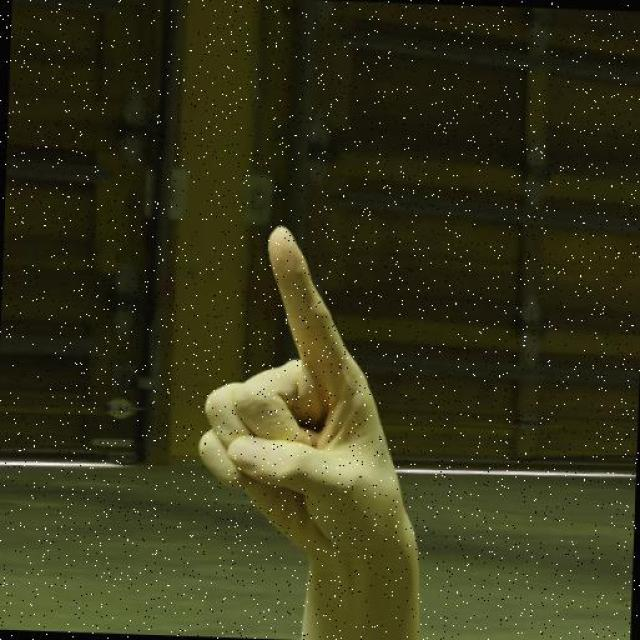Z: (154, 186, 476, 640)
